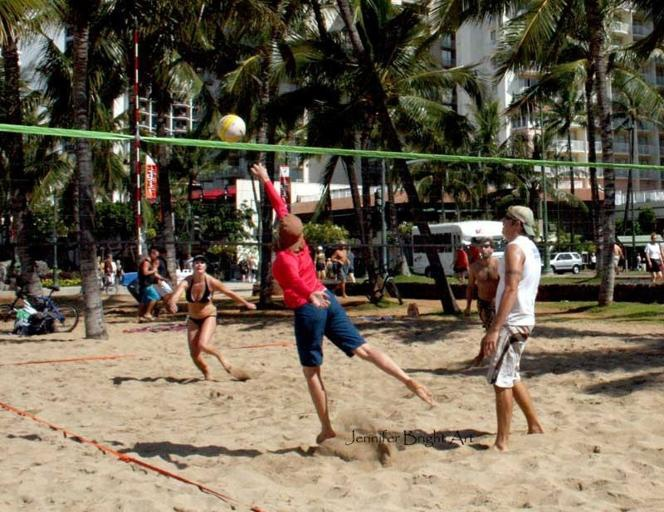non-vehicle: (0, 273, 78, 333), (362, 261, 402, 307)
